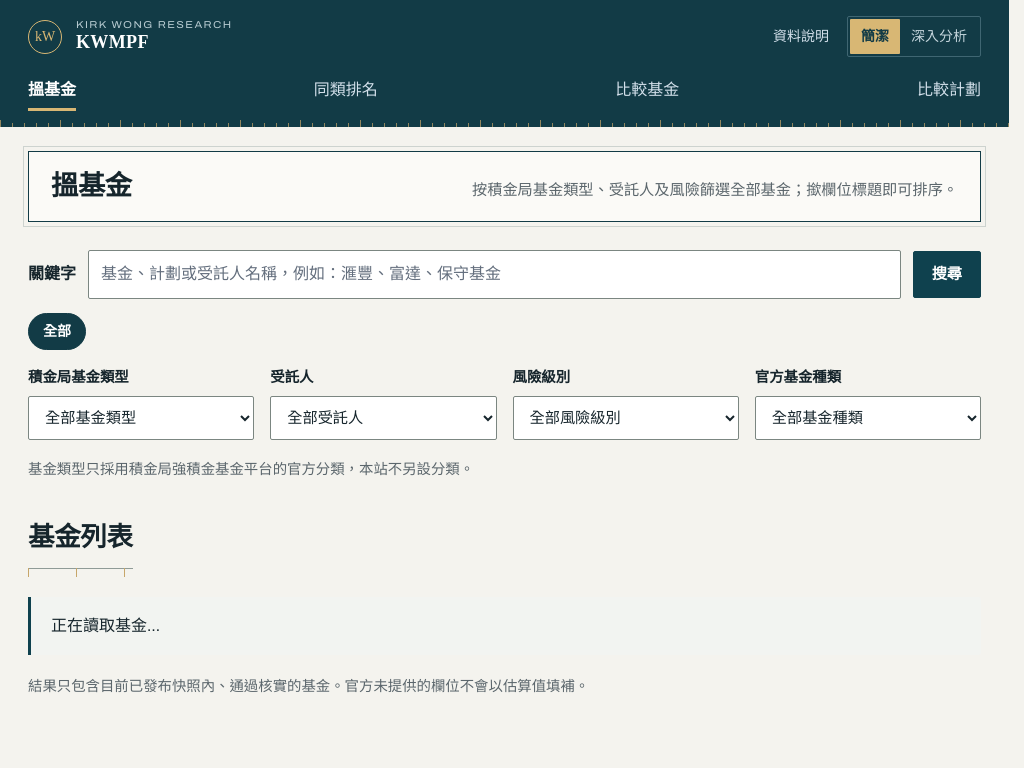
Test: fund browse page › shows the comparison group rather than the platform descriptor
Select "股票基金 - 香港股票基金" in the dropdown labelled "積金局基金類型" at (141, 418), box [28, 396, 254, 440]
(page scrolled)
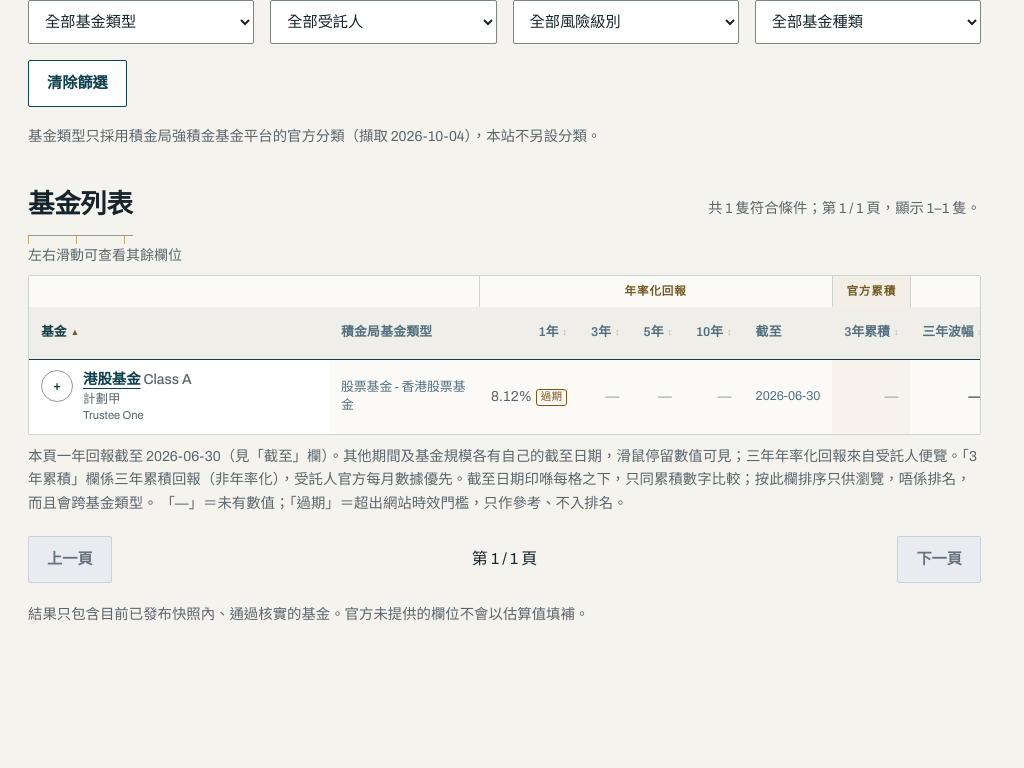
Result: the cell "股票基金 - 香港股票基金" is shown at [329, 359, 479, 434]
